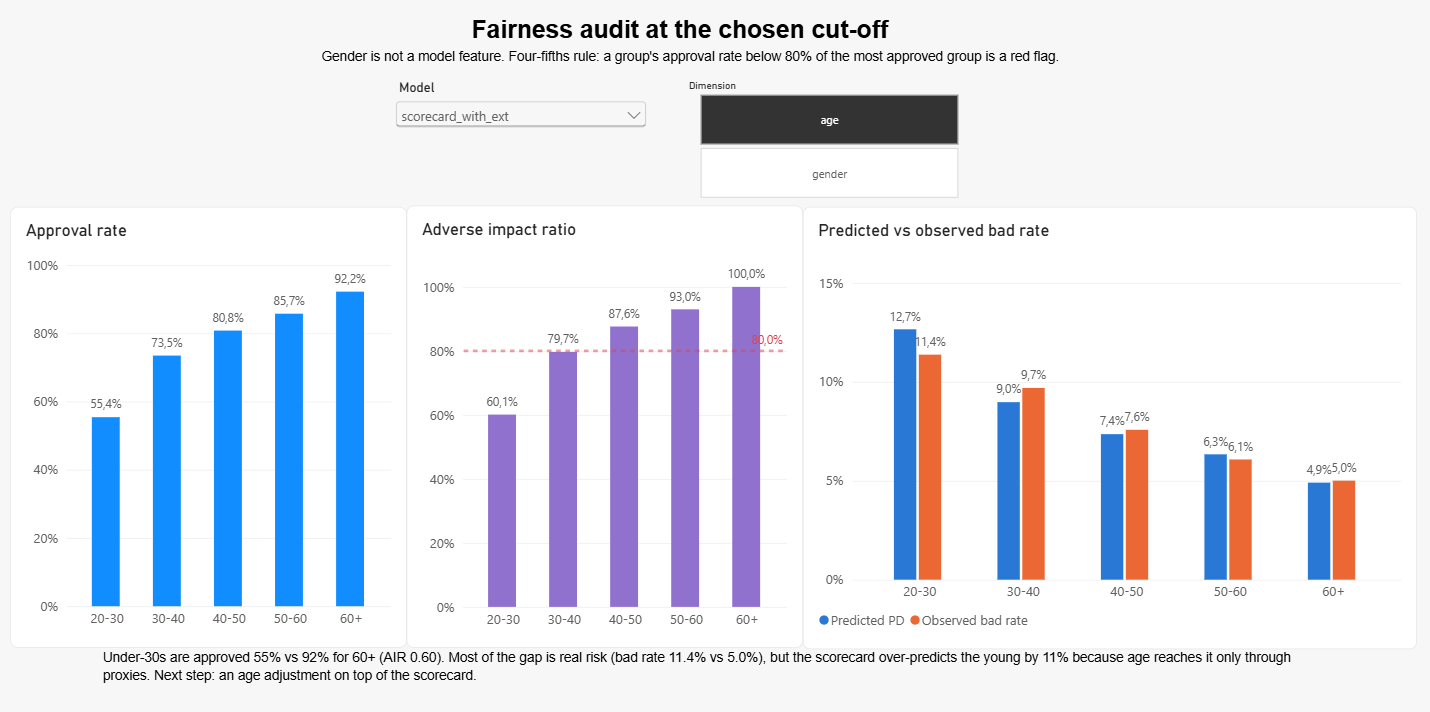

This screenshot's page, from the dashboard's own definition file:
{"tool":"powerbi","page":{"name":"Fairness","canvas":[1920,1080],"ordinal":1},"visuals":[{"type":"textbox","box":[721.7,18.3,475,70],"z":0},{"type":"textbox","box":[560,53.3,800,35],"z":1000},{"type":"slicer","fields":{"Values":["model_comparison.model"]},"box":[635,88.3,280,75],"z":2000},{"type":"slicer","fields":{"Values":["fairness.dimension"]},"box":[948.3,88.3,318.3,130],"z":3000},{"type":"clusteredColumnChart","title":"Approval rate","fields":{"Category":["fairness.group"],"Y":["Max(fairness.approval_rate)"]},"box":[222.5,225.6,428.9,476.7],"z":4000},{"type":"clusteredColumnChart","title":"Adverse impact ratio","fields":{"Category":["fairness.group"],"Y":["Max(fairness.adverse_impact_ratio)"]},"box":[651.5,224.3,428.8,478.8],"z":5000},{"type":"clusteredColumnChart","title":"Predicted vs observed bad rate","fields":{"Category":["fairness.group"],"Y":["Max(fairness.mean_pd)","Max(fairness.bad_rate)"]},"box":[1079.2,226,664,478],"z":6000},{"type":"textbox","box":[322.5,702.5,1285,70],"z":7000}]}

Visuals, with their boxes on the page's 1920x1080 design canvas (x1, y1, x2, y2). These are canvas units, not pixel positions in the 1430x712 screenshot, which may show the page scaled, cropped or inside an application window:
textbox: rect(722, 18, 1197, 88)
textbox: rect(560, 53, 1360, 88)
slicer - model_comparison.model: rect(635, 88, 915, 163)
slicer - fairness.dimension: rect(948, 88, 1267, 218)
"Approval rate" clusteredColumnChart: rect(222, 226, 651, 702)
"Adverse impact ratio" clusteredColumnChart: rect(652, 224, 1080, 703)
"Predicted vs observed bad rate" clusteredColumnChart: rect(1079, 226, 1743, 704)
textbox: rect(322, 702, 1608, 772)
